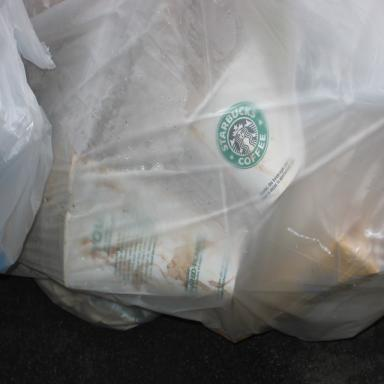plasticbag: (30, 0, 384, 345), (28, 0, 383, 343), (0, 0, 57, 271)
